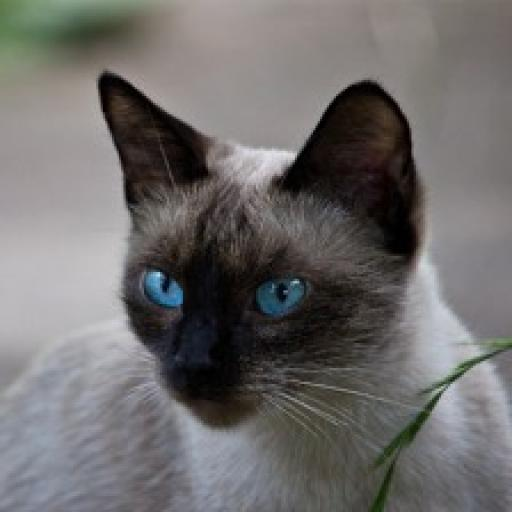cat: (11, 66, 512, 512)
